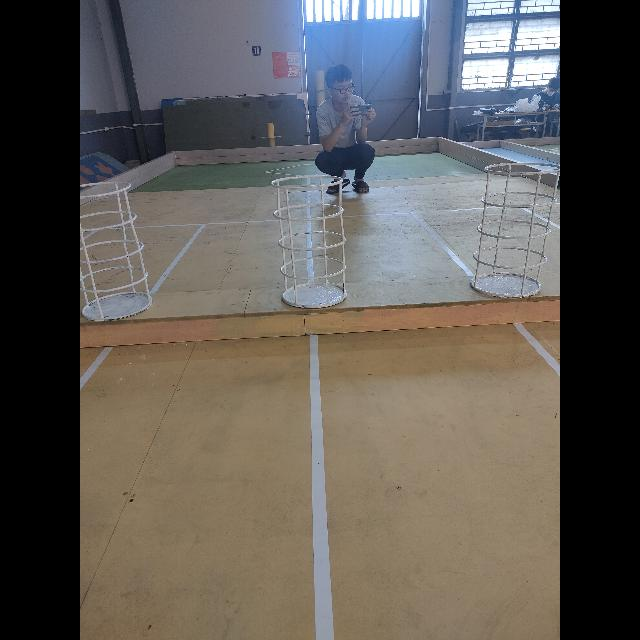S: (459, 161, 560, 302), (267, 170, 353, 312), (80, 178, 155, 325)
